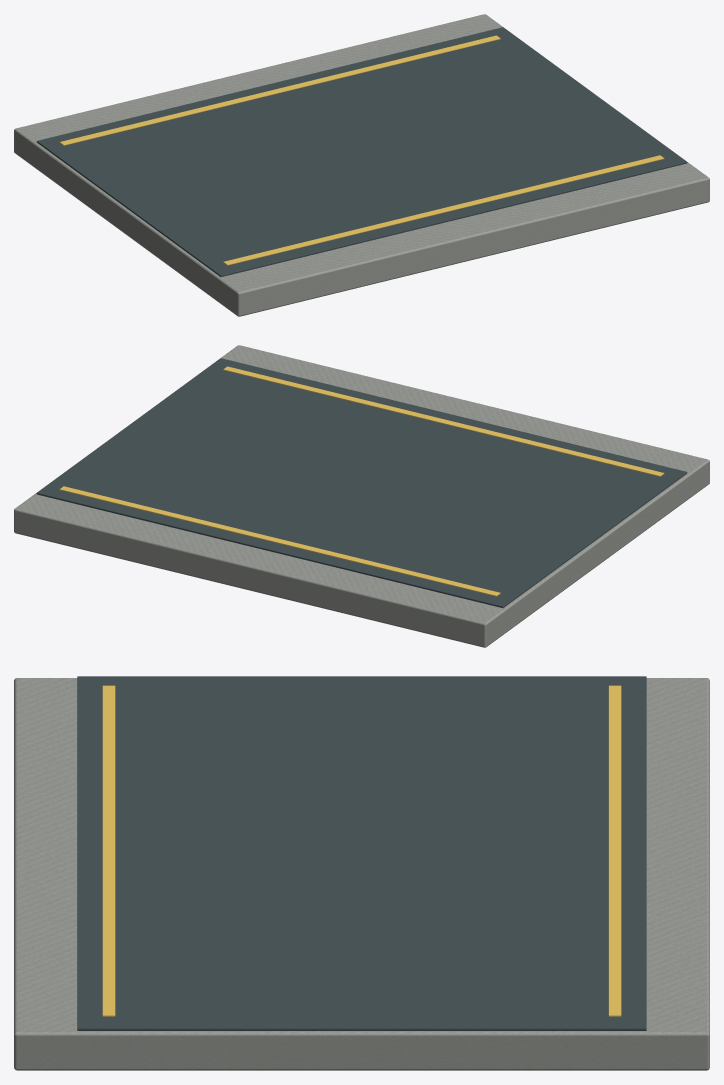
File: hydroelectric-dam-infiltration-crest-roadway-3d4e2711__29331.glb
3 renders of one model, top to bottom at view 1: azimuth 30°, elevation 25°; view 2: azimuth 150°, elevation 25°; view 3: azimuth 270°, elevation 25°, orthographic. The views are drawn at different scales.
Visible parts, largest first — view 1: crest-roadway; view 2: crest-roadway; view 3: crest-roadway.
Part boxes in pixels (x1,y1,x2,y2): crest-roadway: (14, 14, 709, 316); crest-roadway: (14, 345, 709, 647); crest-roadway: (14, 676, 709, 1070).
Size of the model in its own units: 4 by 0.2252 by 3.3.
3 materials, 1 textured.
